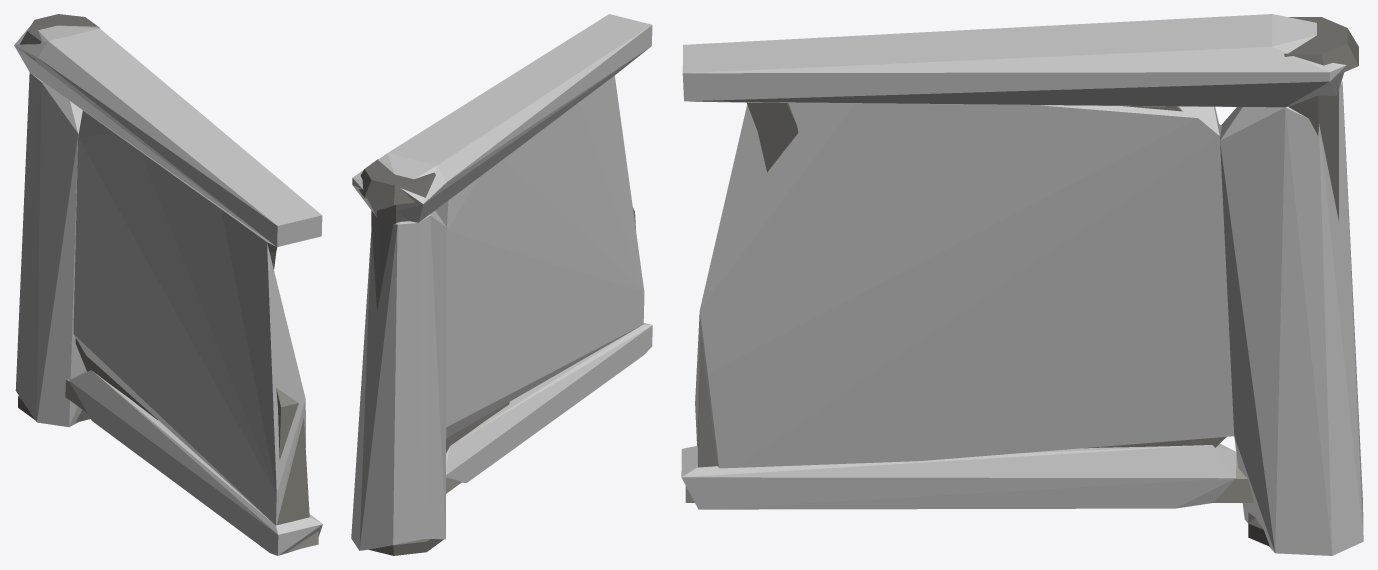
File: SM_Bld_Railing_Small_01.fbx
3 views of the same model, side by side, from view 1: azimuth 30°, elevation 25°; view 2: azimuth 150°, elevation 25°; view 3: azimuth 270°, elevation 25° (orthographic). The views are drawn at different scales.
Visible parts, largest first — view 1: SM_Bld_Railing_Small_01_ConvexHulls, SM_Bld_Railing_Small_01; view 2: SM_Bld_Railing_Small_01_ConvexHulls, SM_Bld_Railing_Small_01; view 3: SM_Bld_Railing_Small_01_ConvexHulls, SM_Bld_Railing_Small_01.
Boxes of the visible parts, <box> form: SM_Bld_Railing_Small_01_ConvexHulls: <box>14,25,322,555</box>; SM_Bld_Railing_Small_01: <box>18,14,318,551</box>; SM_Bld_Railing_Small_01_ConvexHulls: <box>351,14,652,550</box>; SM_Bld_Railing_Small_01: <box>359,159,635,555</box>; SM_Bld_Railing_Small_01_ConvexHulls: <box>681,14,1363,555</box>; SM_Bld_Railing_Small_01: <box>685,17,1358,546</box>.
Bounding box in the file's own units: 23.19 × 138 × 112.
2 materials, 1 textured.
